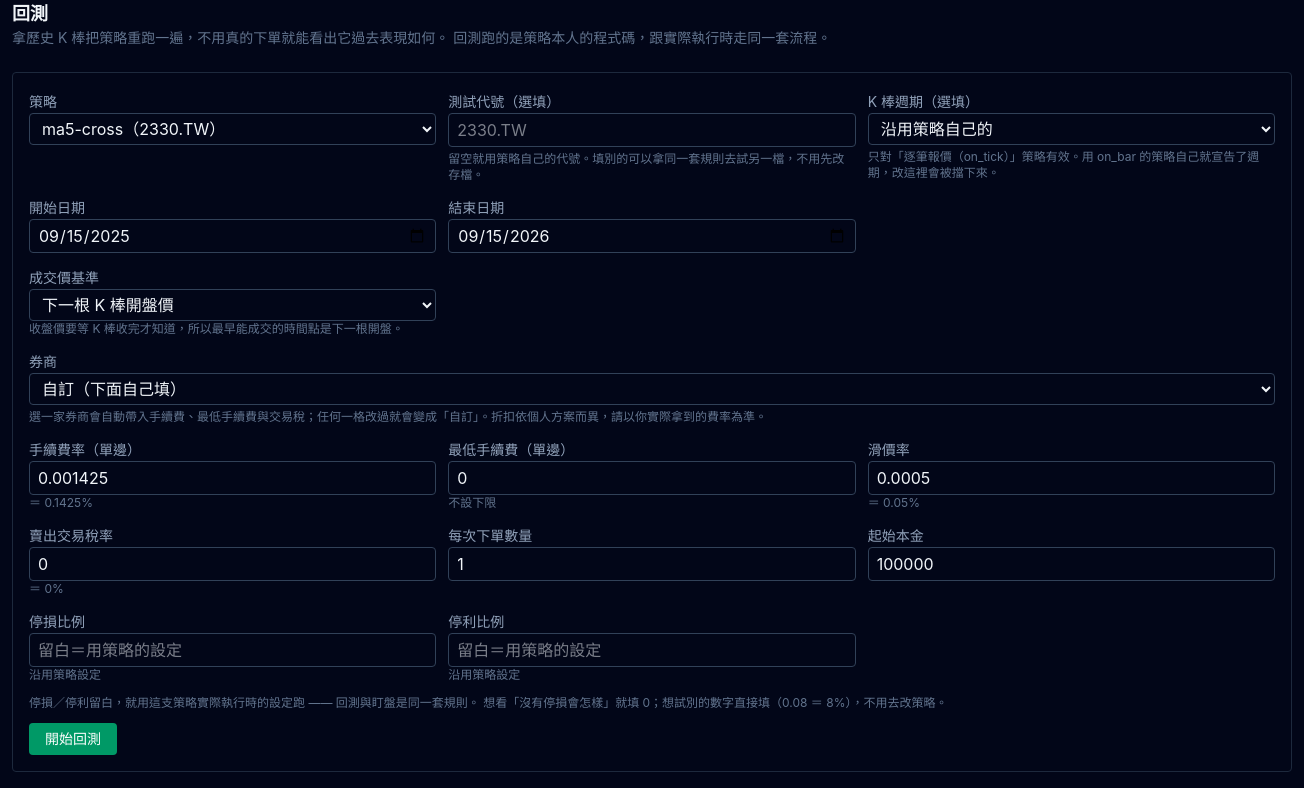
Test case: BacktestPage › surfaces the notes about signals the run could not act on
What coordinates should you click on to do the following:
click the button "開始回測"
I would click on:
 (73, 739)
Its box is [29,723,117,755].
(page scrolled)
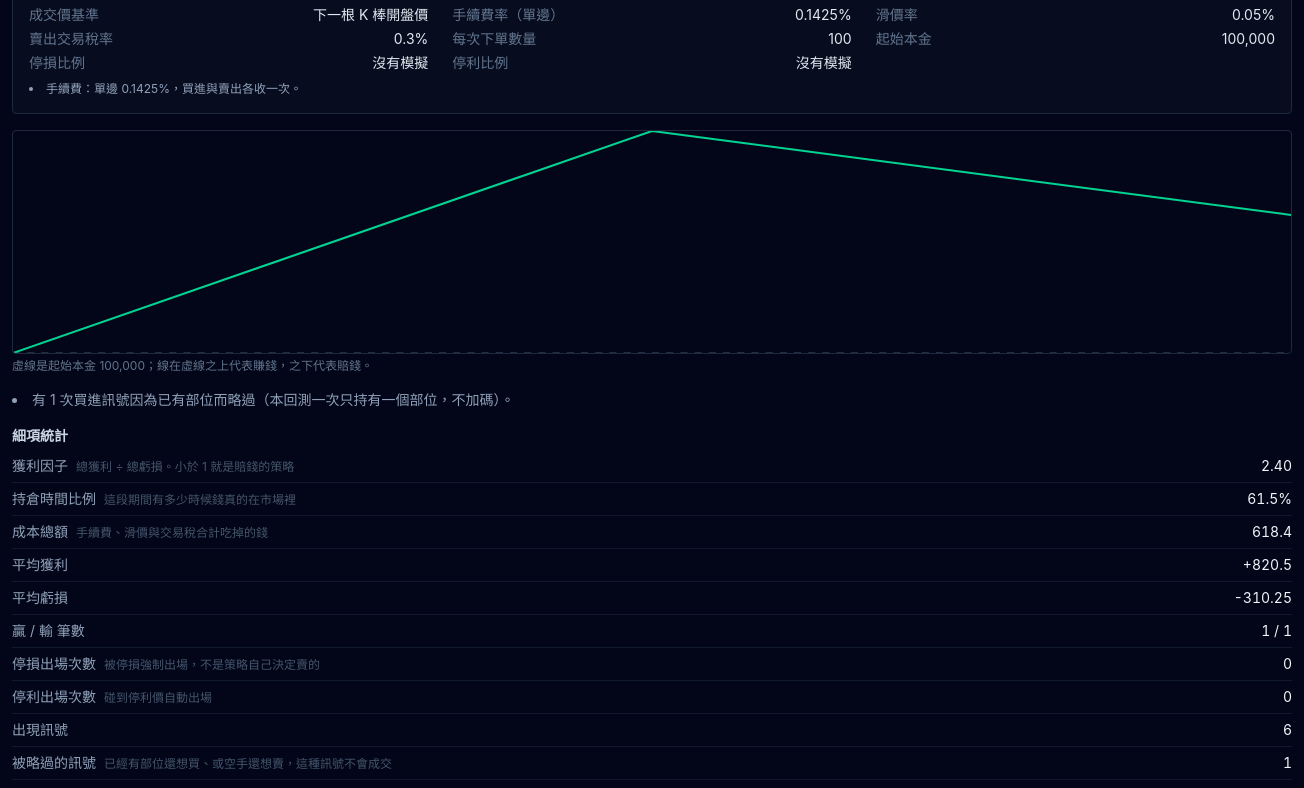
expect the list item "有 1 次買進訊號因為已有部位而略過（本回測一次只持有一個部位，不加碼）。" is shown: met, box [32,391,515,408]
